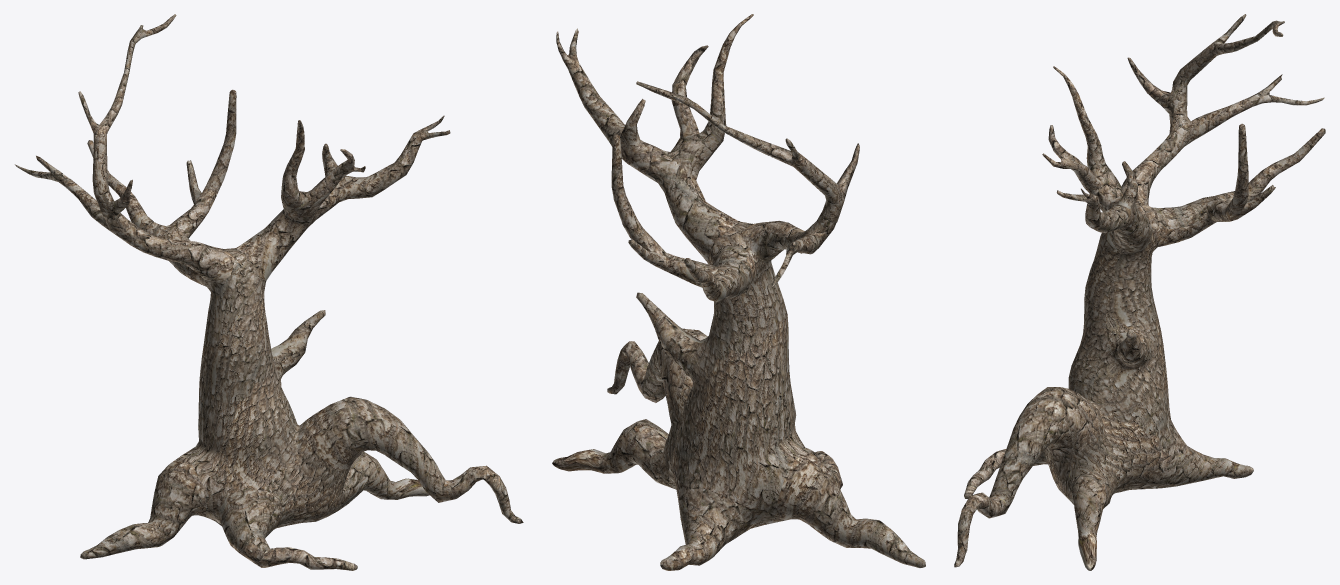
The model's file is TreeOne.fbx.
3 views of the same model, side by side, from view 1: azimuth 30°, elevation 25°; view 2: azimuth 150°, elevation 25°; view 3: azimuth 270°, elevation 25° (orthographic). The views are drawn at different scales.
Parts seen in each view (by area): view 1: Tree_4; view 2: Tree_4; view 3: Tree_4.
Part boxes in pixels (bbox=[...]): Tree_4: bbox=[14, 14, 523, 570]; Tree_4: bbox=[552, 14, 925, 570]; Tree_4: bbox=[954, 14, 1325, 570].
Size of the model in its own units: 563 by 670 by 495.
